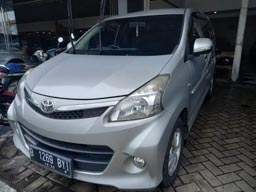plat: (27, 144, 75, 181)
